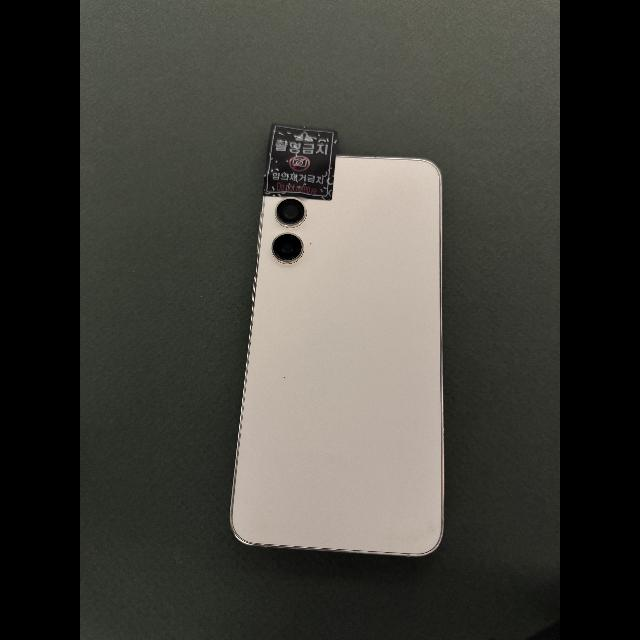lens: (276, 198, 305, 226), (272, 234, 302, 261)
phone: (230, 154, 444, 556)
sticker: (263, 123, 338, 202)
